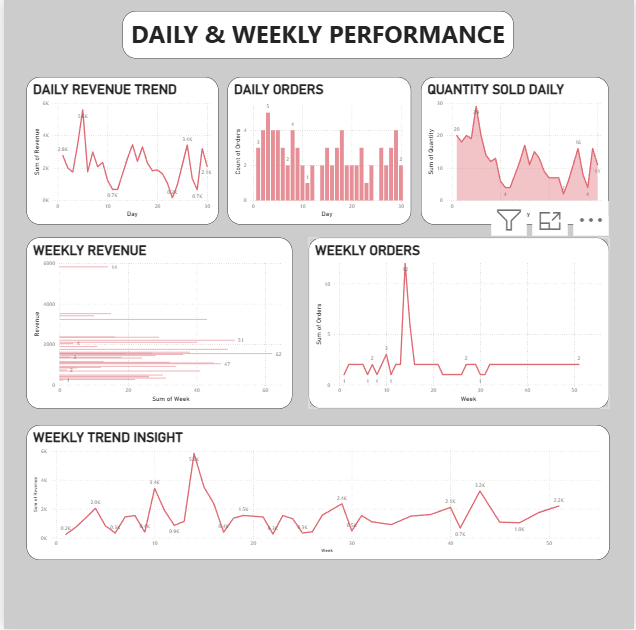

The dashboard page shown, as its layout file describes it:
{"tool":"powerbi","page":{"name":"Daily and Weekly Analysis","canvas":[1400,1400],"ordinal":1},"visuals":[{"type":"lineChart","title":"DAILY REVENUE TREND","fields":{"Category":["daily_sales.sale_date.Variation.Date Hierarchy.Day"],"Y":["Sum(daily_sales.Revenue)"]},"box":[49.5,173.2,426.8,327.8],"z":0},{"type":"textbox","box":[262.9,27.8,869.1,105.2],"z":1000},{"type":"columnChart","title":"DAILY ORDERS","fields":{"Category":["daily_sales.sale_date.Variation.Date Hierarchy.Day"],"Y":["CountNonNull(daily_sales.Orders)"]},"box":[497.9,173.2,408.3,327.8],"z":2000},{"type":"areaChart","title":"QUANTITY SOLD DAILY","fields":{"Category":["daily_sales.sale_date.Variation.Date Hierarchy.Day"],"Y":["Sum(daily_sales.Quantity)"]},"box":[927.9,173.2,417.5,327.8],"z":3000},{"type":"clusteredBarChart","title":"WEEKLY REVENUE","fields":{"Category":["weekly_sales.Revenue"],"Y":["Sum(weekly_sales.Week)"]},"box":[49.5,528.9,590.7,380.4],"z":4000},{"type":"lineChart","title":"WEEKLY ORDERS","fields":{"Category":["weekly_sales.Week"],"Y":["Sum(weekly_sales.Orders)"]},"box":[677.3,528.9,668.1,380.4],"z":5000},{"type":"lineChart","title":"WEEKLY TREND INSIGHT","fields":{"Category":["weekly_sales.Week"],"Y":["Sum(weekly_sales.Revenue)"]},"box":[49.5,946.4,1295.9,300],"z":6000}]}

Visuals, with their boxes in screenshot pixels (x1, y1, x2, y2), scaled from the page's 1400x1400 canvas onto the 636x630 screenshot:
"DAILY REVENUE TREND" lineChart: locate(22, 78, 216, 225)
textbox: locate(119, 13, 514, 60)
"DAILY ORDERS" columnChart: locate(226, 78, 412, 225)
"QUANTITY SOLD DAILY" areaChart: locate(422, 78, 611, 225)
"WEEKLY REVENUE" clusteredBarChart: locate(22, 238, 291, 409)
"WEEKLY ORDERS" lineChart: locate(308, 238, 611, 409)
"WEEKLY TREND INSIGHT" lineChart: locate(22, 426, 611, 561)
